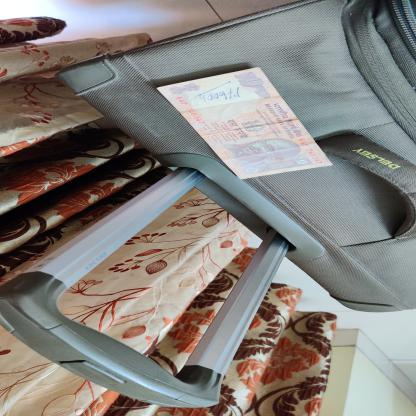Old10Front: (157, 67, 334, 179)
